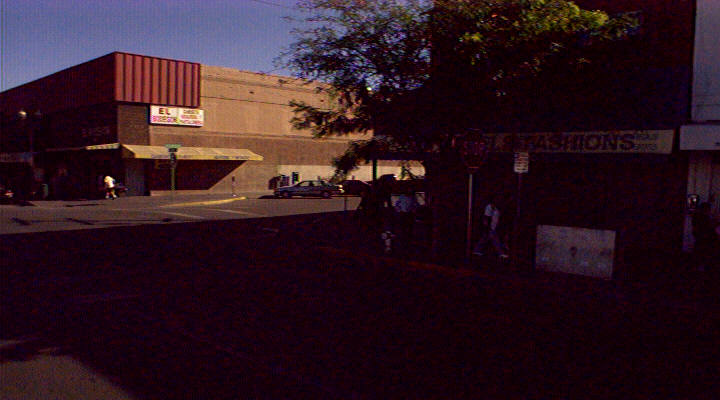Ramp: (28, 194, 176, 212)
